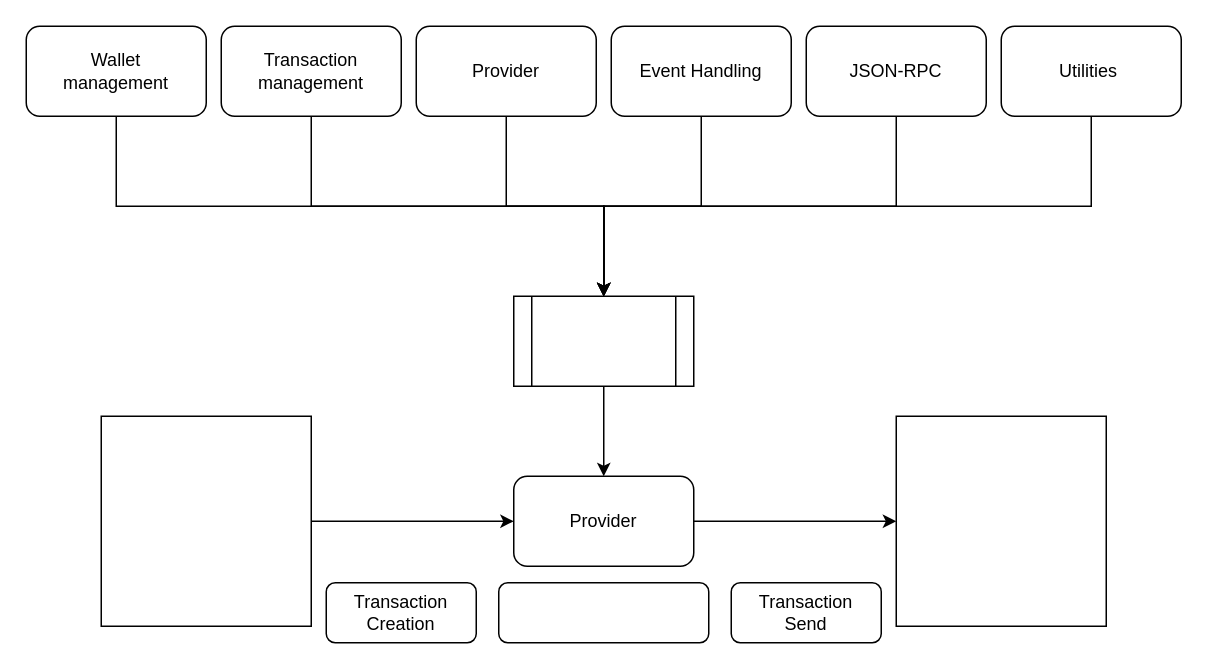
The diagram is 1208 pixels wide and 669 high, and some of its shapes have lost their labels. Each missing label, with the centre of its shape:
"Client" belongs at (x=205, y=520).
"Node" belongs at (x=1000, y=520).
"RPC ryt_sendTransaction" belongs at (x=603, y=612).
"RYT SDK" belongs at (x=603, y=340).
